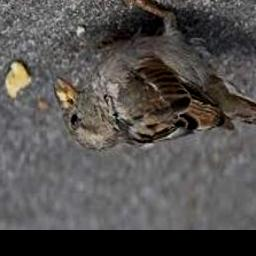Sparrow: (52, 0, 256, 152)
